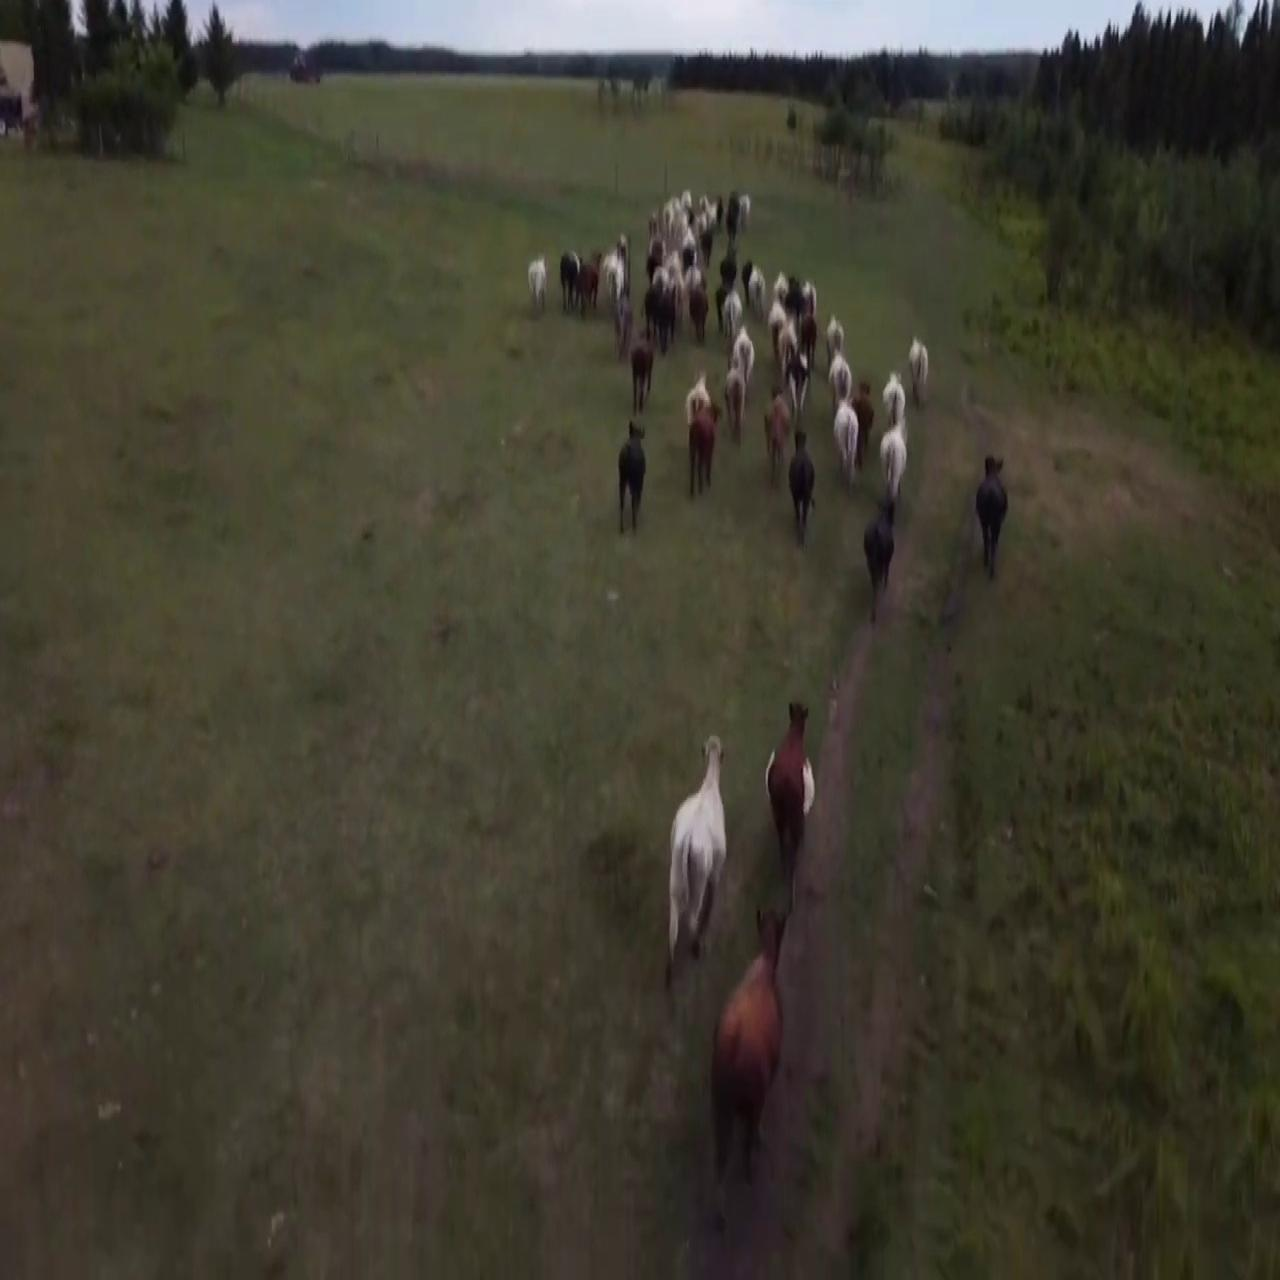cow: (714, 894, 794, 1212), (668, 735, 737, 956), (761, 735, 817, 879), (862, 490, 911, 620), (972, 452, 1009, 580), (615, 428, 649, 542), (830, 396, 866, 495), (785, 442, 817, 546), (685, 399, 717, 496), (628, 329, 660, 407), (762, 381, 789, 461), (726, 365, 750, 448), (823, 338, 852, 403), (681, 352, 708, 421), (908, 333, 931, 410), (881, 362, 905, 433), (579, 251, 605, 314), (881, 420, 906, 481), (560, 238, 576, 321), (525, 237, 546, 297)
